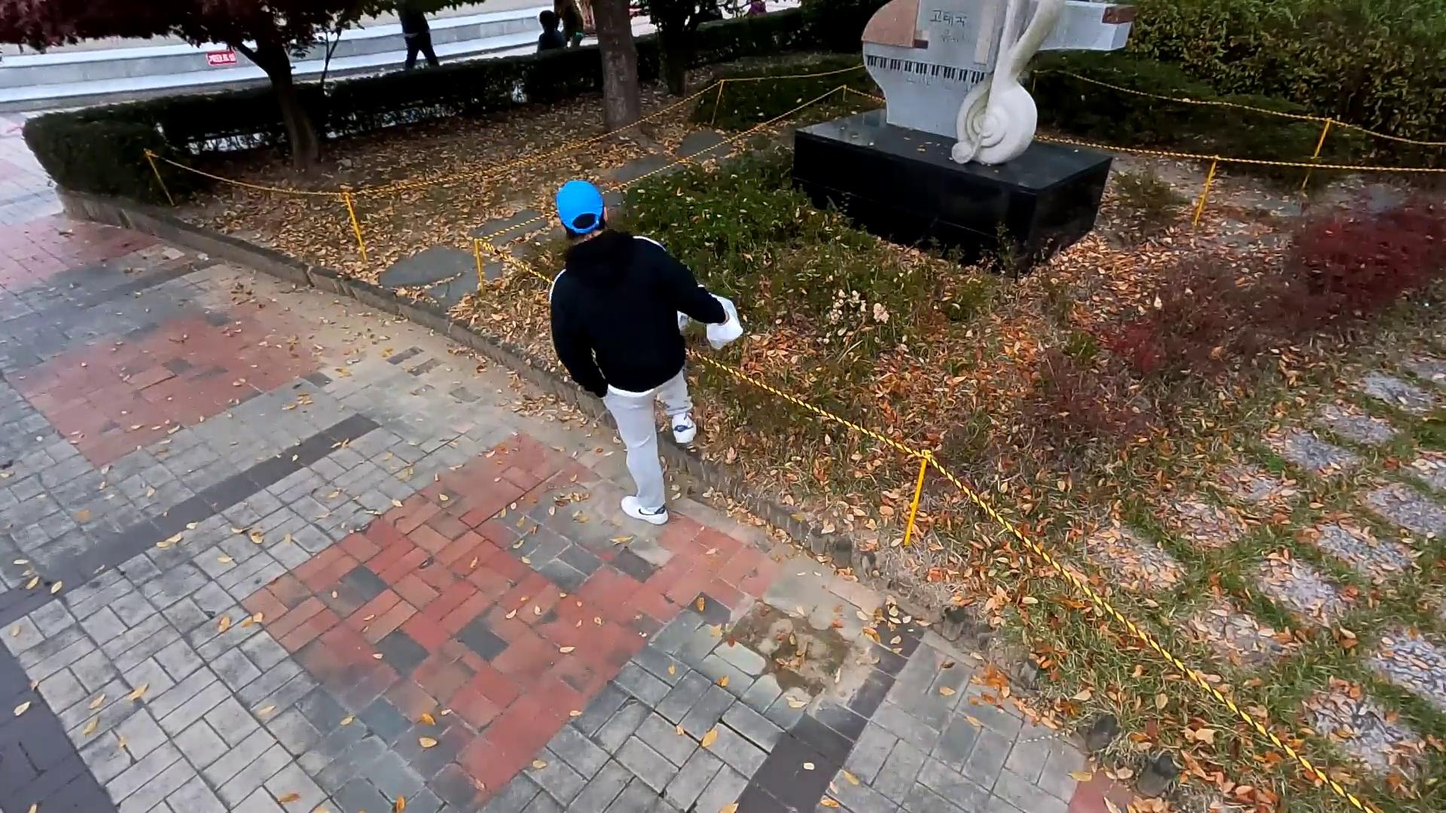person: (548, 173, 715, 526)
trash: (700, 292, 746, 347), (670, 279, 703, 344)
